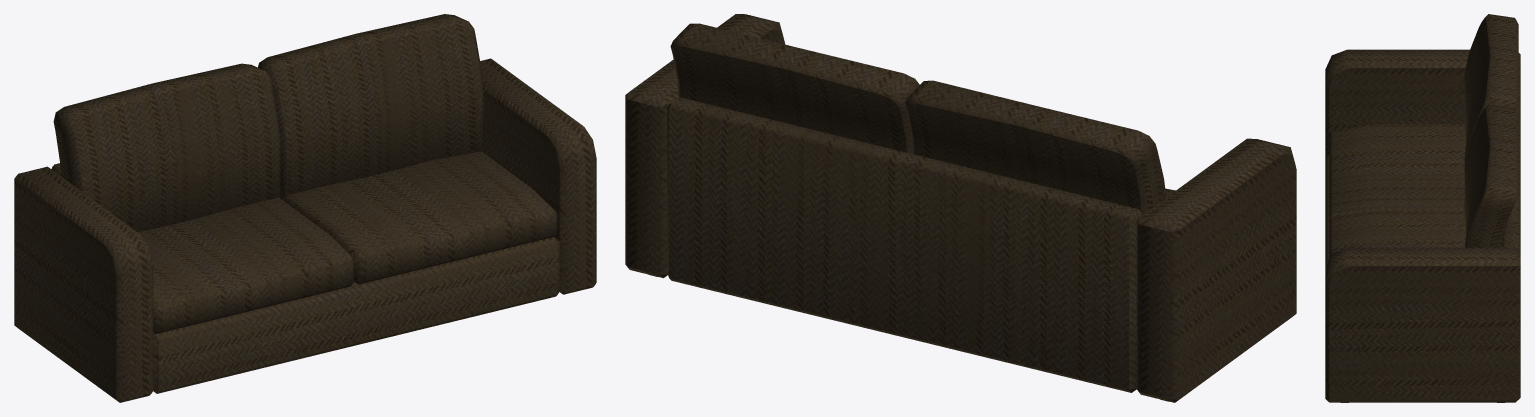
File: sofa_1_2.glb
The picture shows the model from 3 angles, left to right: view 1: azimuth 30°, elevation 25°; view 2: azimuth 150°, elevation 25°; view 3: azimuth 270°, elevation 25°; orthographic projection. The views are drawn at different scales.
Parts seen in each view (by area): view 1: sofa_1_2; view 2: sofa_1_2; view 3: sofa_1_2.
Boxes of the visible parts, box(x1,y1,x2,y2) form: sofa_1_2: box(14, 14, 596, 402); sofa_1_2: box(625, 14, 1296, 402); sofa_1_2: box(1325, 14, 1520, 402).
Size of the model in its own units: 2.6 by 1.15 by 1.
Materials: 2 (2 with a texture image).
